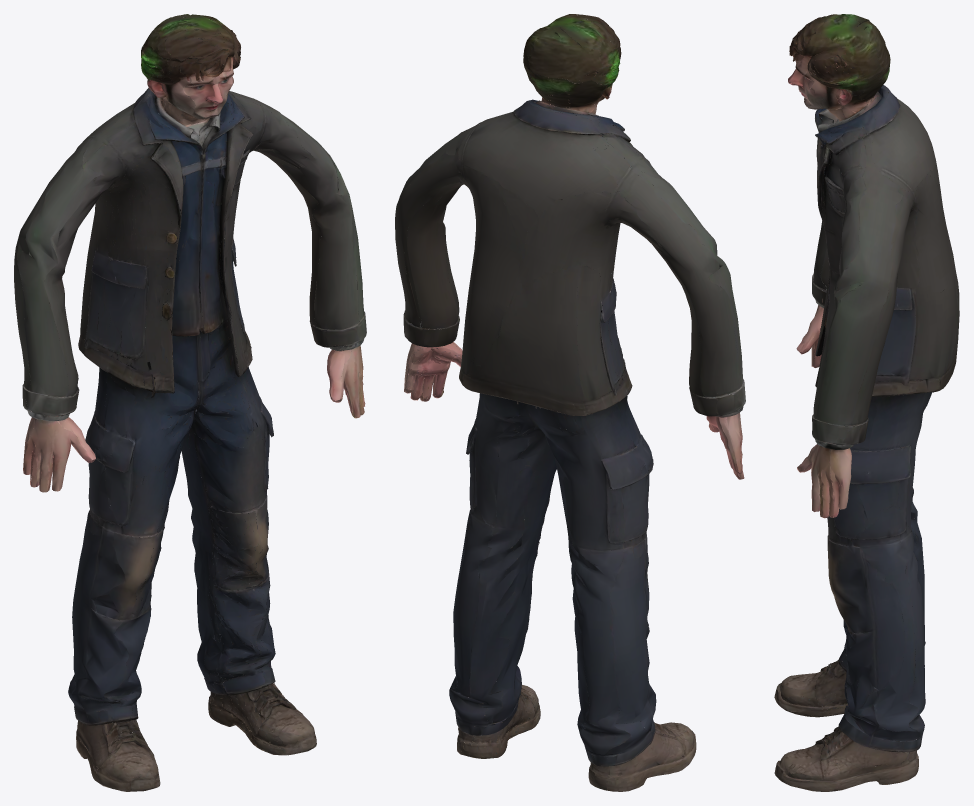
Rendered from pavel_drunk_static.glb.
3 views of the same model, side by side, from view 1: azimuth 30°, elevation 25°; view 2: azimuth 150°, elevation 25°; view 3: azimuth 270°, elevation 25° (orthographic).
Parts seen in each view (by area): view 1: hunyuan-posed-character; view 2: hunyuan-posed-character; view 3: hunyuan-posed-character.
Part boxes in pixels (left/top/right/bottom): hunyuan-posed-character: left=14, top=14, right=366, bottom=791; hunyuan-posed-character: left=395, top=14, right=745, bottom=791; hunyuan-posed-character: left=774, top=14, right=959, bottom=791.
Size of the model in its own units: 0.5218 by 1.08 by 0.2502.
1 material, 1 textured.
